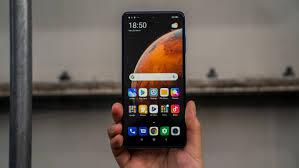Hand: (103, 94, 221, 168)
Smartphone: (120, 12, 186, 143)
